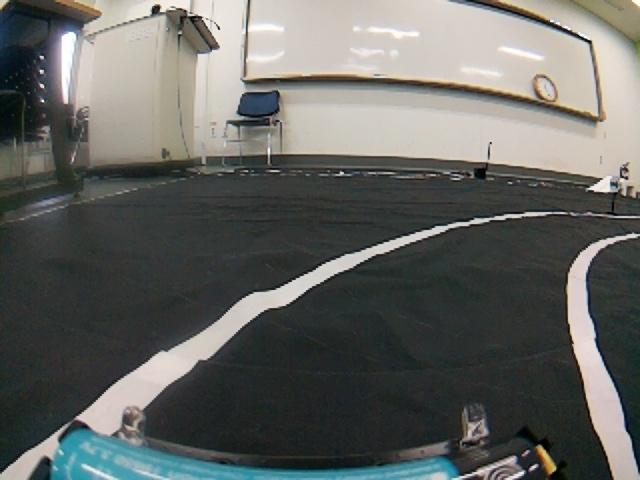right: (8, 211, 640, 474)
